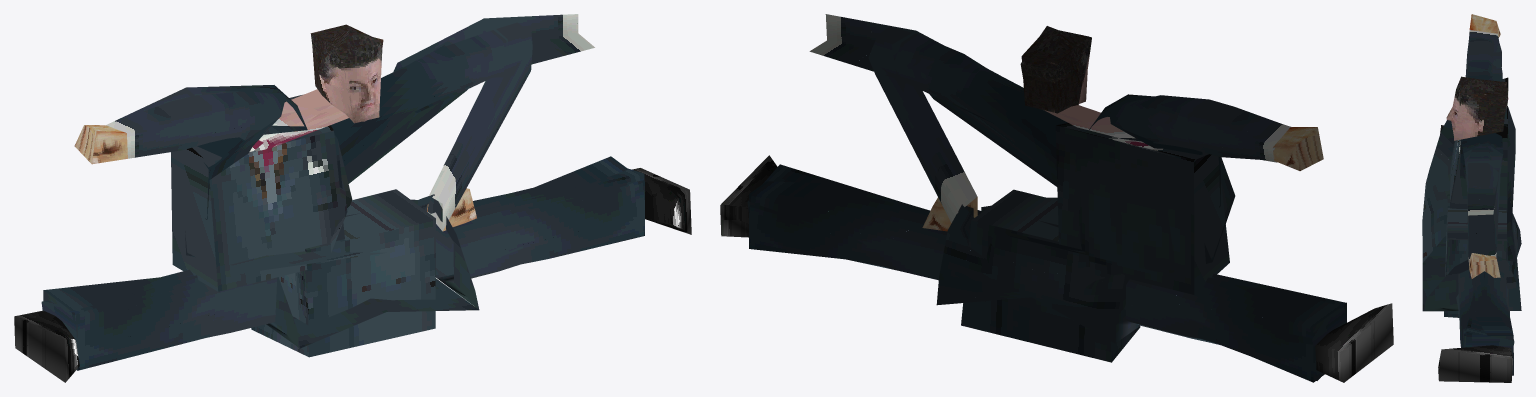
The model's file is CvalentinZ.obj.
The picture shows the model from 3 angles, left to right: view 1: azimuth 30°, elevation 25°; view 2: azimuth 150°, elevation 25°; view 3: azimuth 270°, elevation 25°; orthographic projection. The views are drawn at different scales.
Size of the model in its own units: 2069 by 939 by 391.
18 materials, 18 textured.
